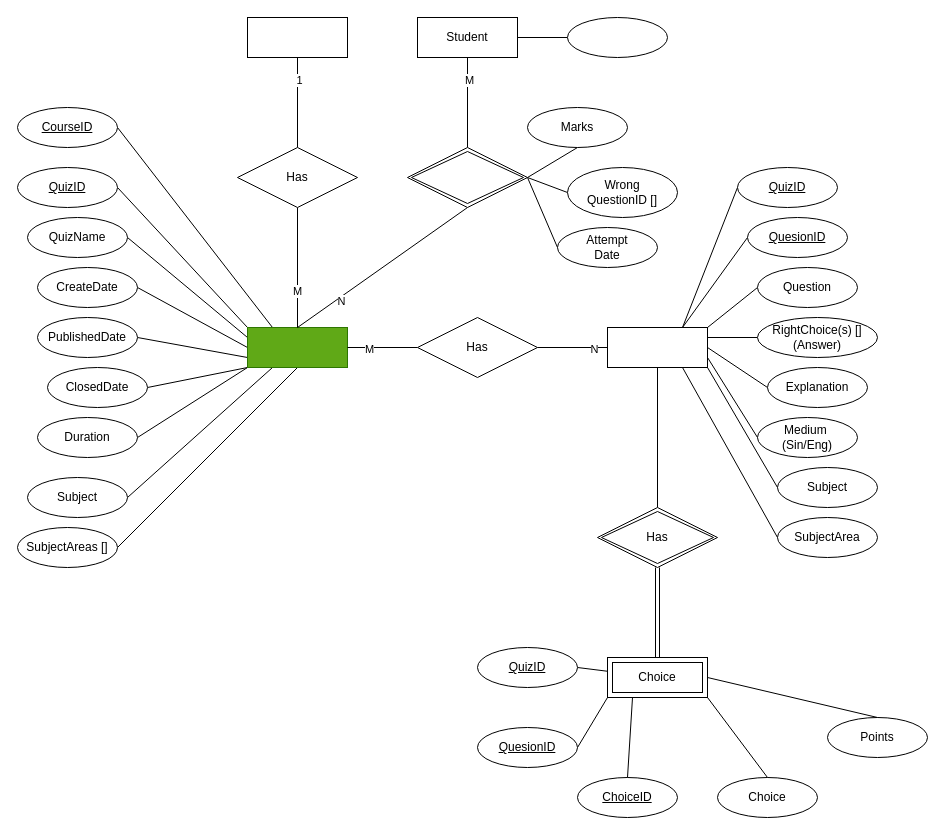
Some shapes in this 945 by 835 pixel diagram are drawn without their labels. Here are the shapes that lost their labels. From the top down, the centre of each, then its label:
At [297,37]: "Course".
At [617,37]: "Weak SubjectAreas".
At [467,177]: "Attempt".
At [297,347]: "Quiz".
At [657,347]: "QuizQuestion (MCQ)".
